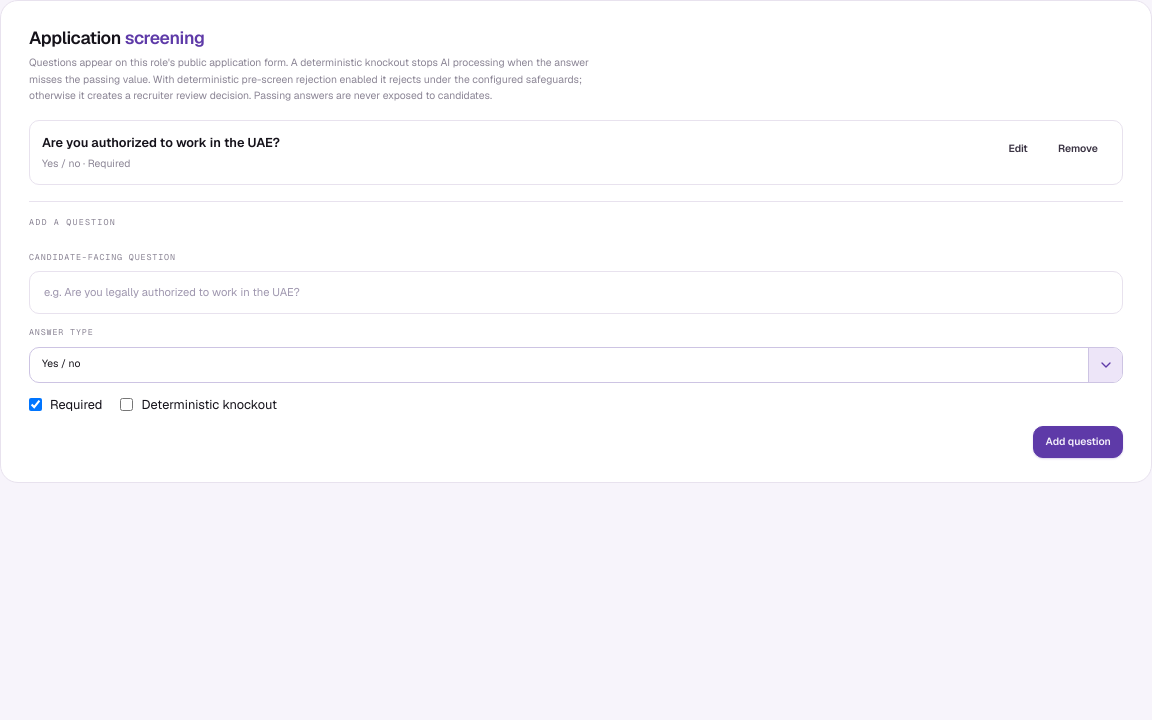
Scenario: RoleScreeningQuestions › loads and manages deterministic screening questions through the role CRUD API
expect the text "Are you authorized to work in the UAE?" is shown: met, box [42,133,280,152]
expect the text "passing answers are never exposed to candidates" is shown: met, box [29,56,589,102]
In the field labelled "Candidate-facing question": point(576, 293) [29,271,1123,314], type "Are you able to work Gulf Standard Time?"
Click the checkbox labelled "Deterministic knockout": point(127, 404) [120,398,134,411]
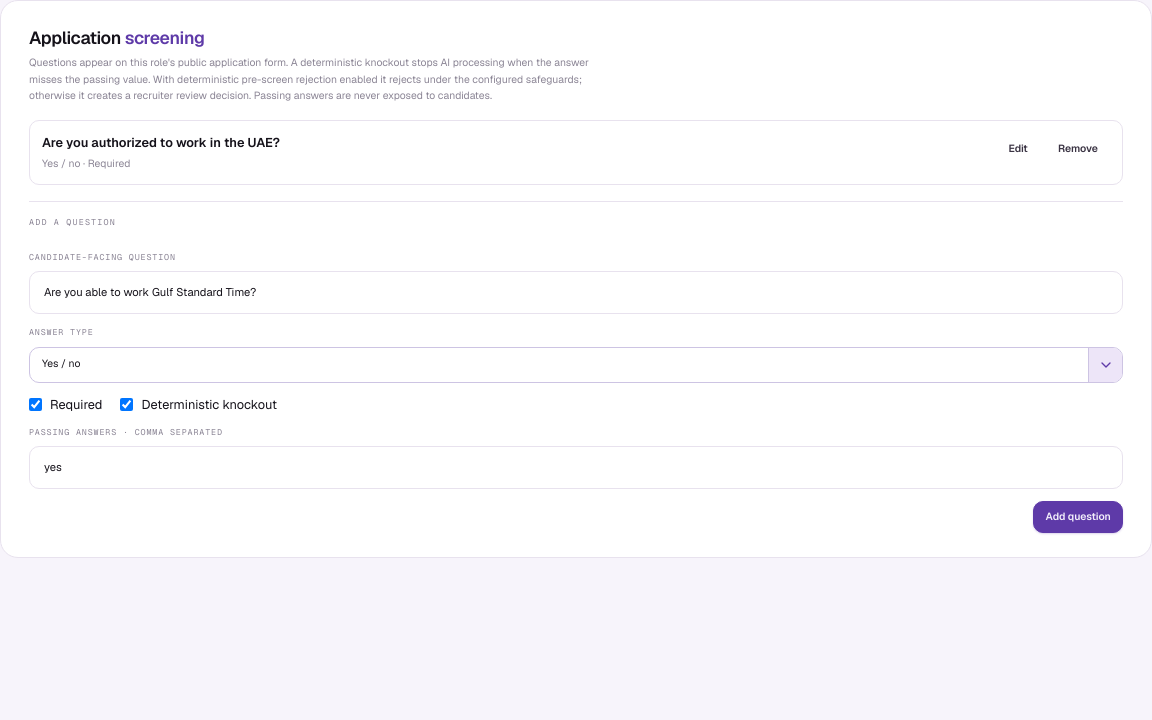
Click the button "Add question": point(1078, 517) [1033,501,1123,533]
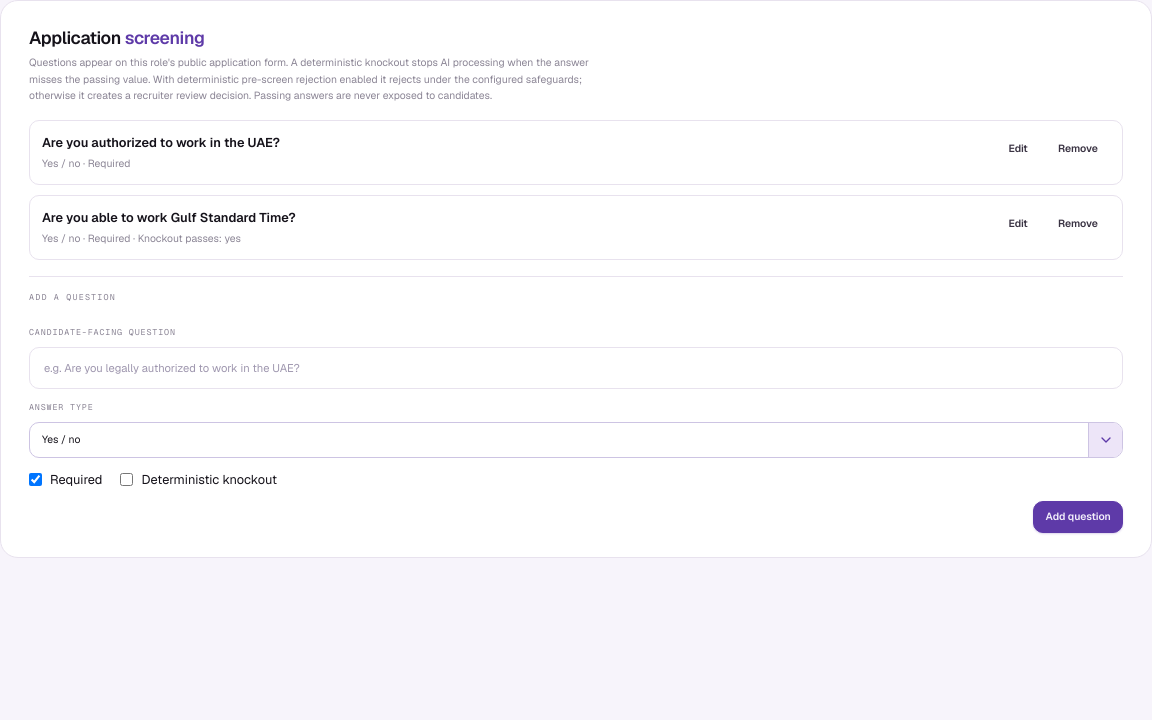
expect the text "Are you able to work Gulf Standard Time?" is shown: met, box [42,208,296,227]
Click the button "Edit" in the row of "Are you authorized to work in the UAE?": point(1018, 149) [996,133,1040,165]
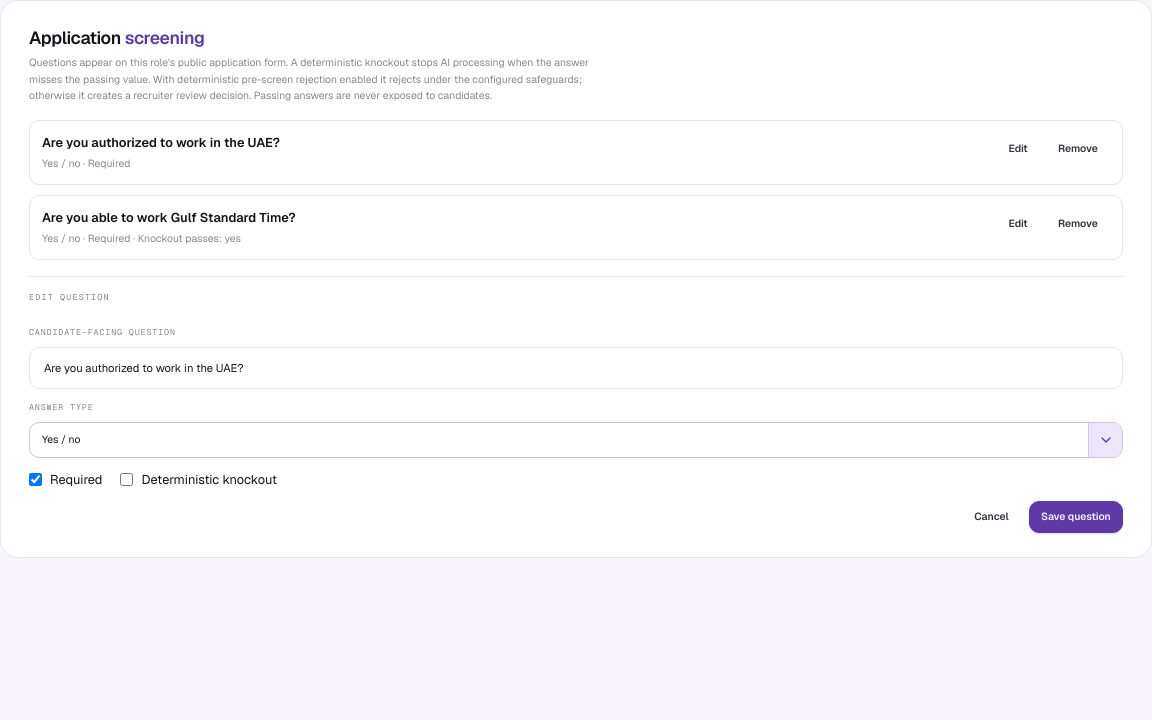
Replace the text in the field labelled "Candidate-facing question" with "Do you have UAE work authorization?": point(576, 368) [29,347,1123,389]
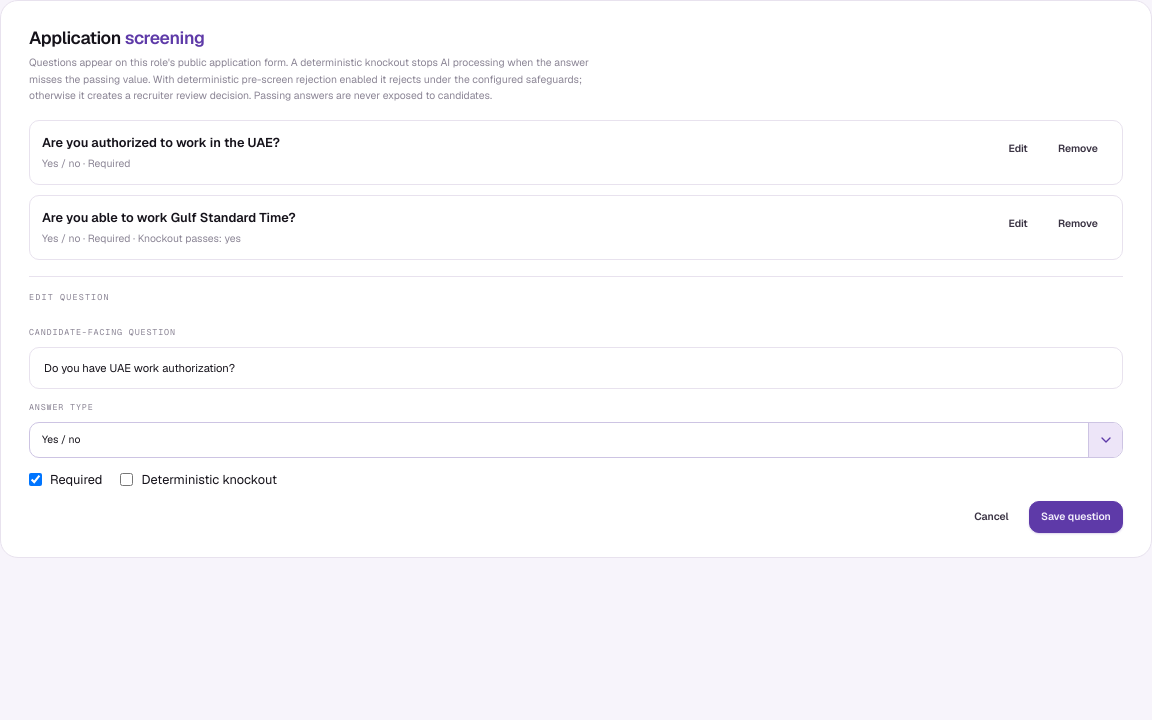
Click the button "Save question": point(1076, 517) [1029,501,1123,533]
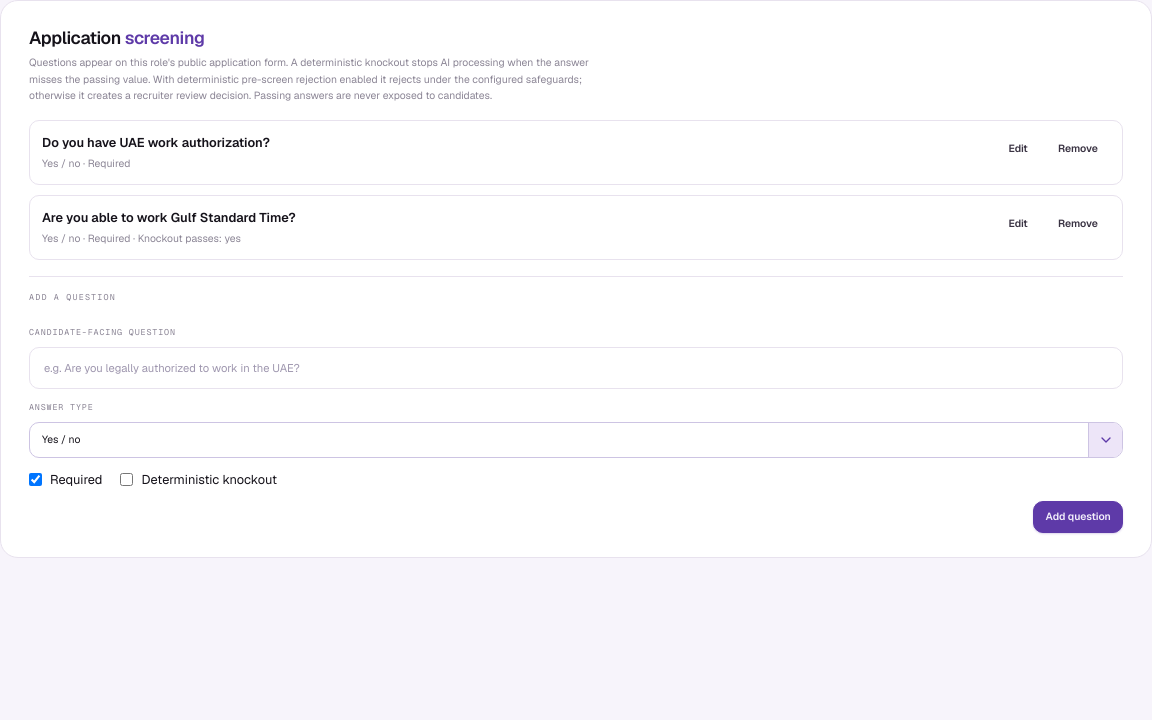
expect the text "Do you have UAE work authorization?" is shown: met, box [42,133,270,152]
Click the button "Remove" in the row of "Do you have UAE work authorization?": point(1078, 149) [1046,133,1110,165]
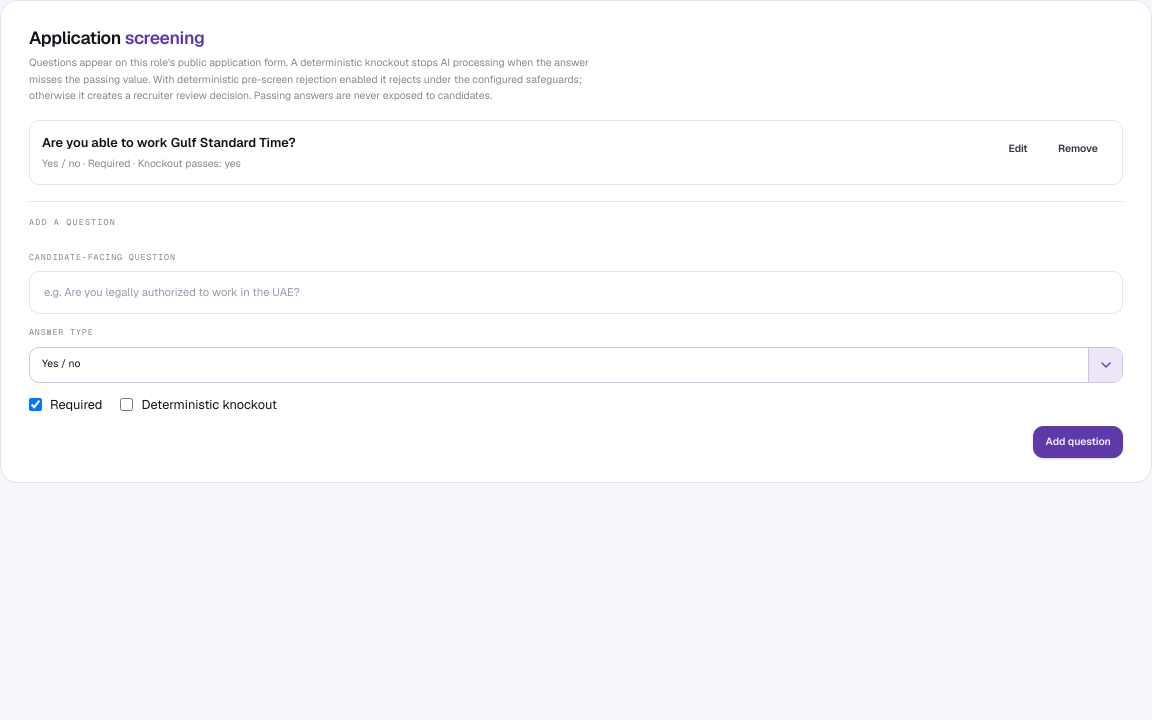
expect the text "Do you have UAE work authorization?" is gone: met
